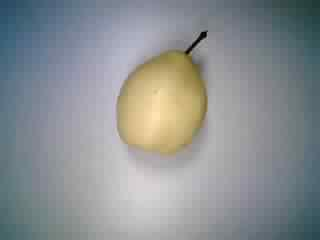pear: (106, 22, 228, 161)
